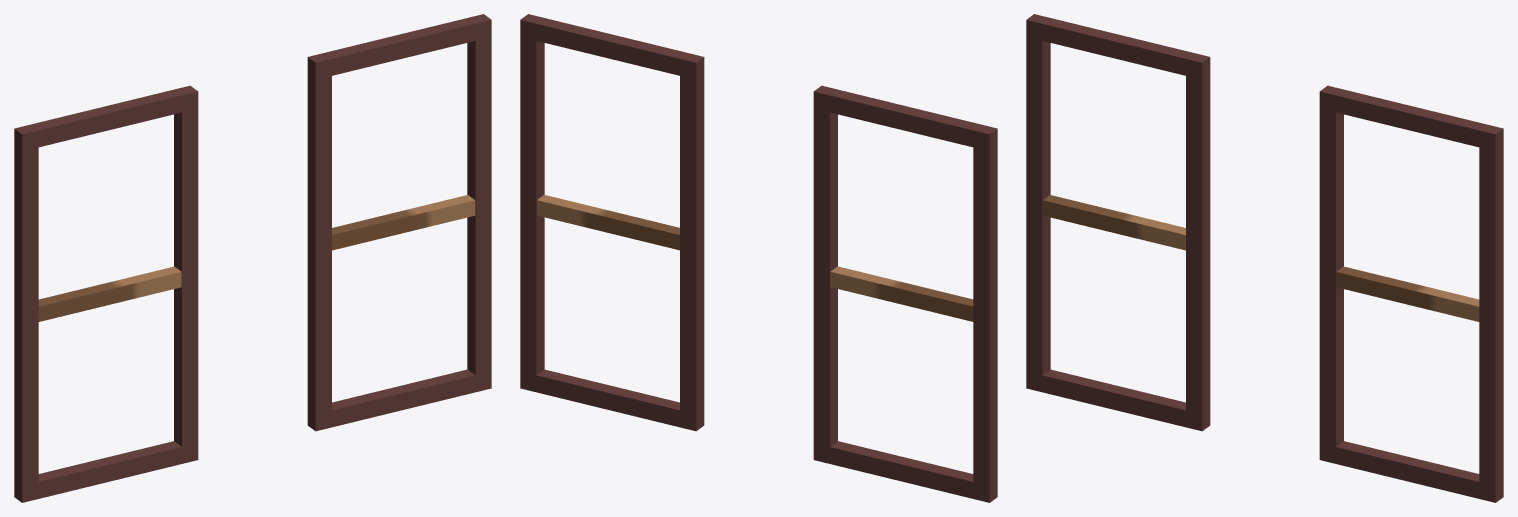
The model's file is DBK_WinDouble_Wood_Full.fbx.
3 renders of one model, left to right at view 1: azimuth 30°, elevation 25°; view 2: azimuth 150°, elevation 25°; view 3: azimuth 330°, elevation 25°, orthographic.
Visible parts, largest first — view 1: DBK_WinDouble_Wood_Full; view 2: DBK_WinDouble_Wood_Full; view 3: DBK_WinDouble_Wood_Full.
Boxes of the visible parts, x1,y1,x2,y2 form: DBK_WinDouble_Wood_Full: (14,14,491,502); DBK_WinDouble_Wood_Full: (520,14,997,502); DBK_WinDouble_Wood_Full: (1026,14,1503,502).
Bounding box in the file's own units: 160 × 120 × 4.75.
